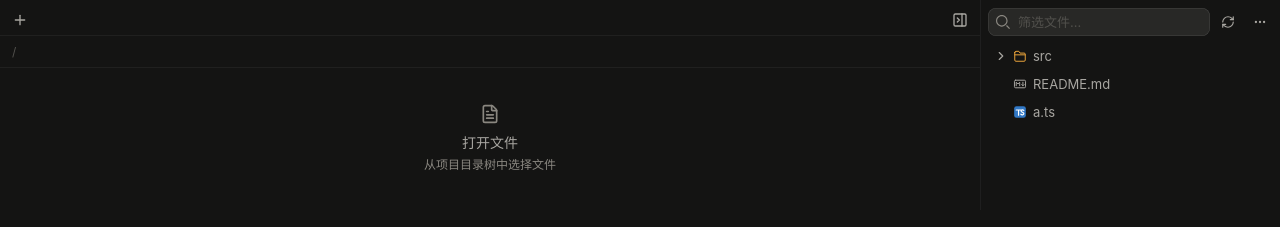
Test: FilesPane › 6 · draws its tabs with the shared editor tab bar (the terminal uses the same one)
The width and height of the screenshot is (1280, 227).
Click the list item with class "file-tree-row" showing "README.md".
click(1072, 84)  # box [986,70,1274,98]
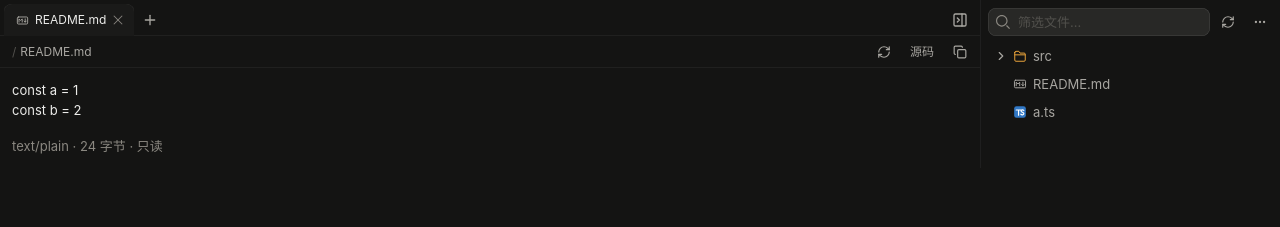
Expected: the button named "关闭 README.md" is shown, [110,12,126,28]
